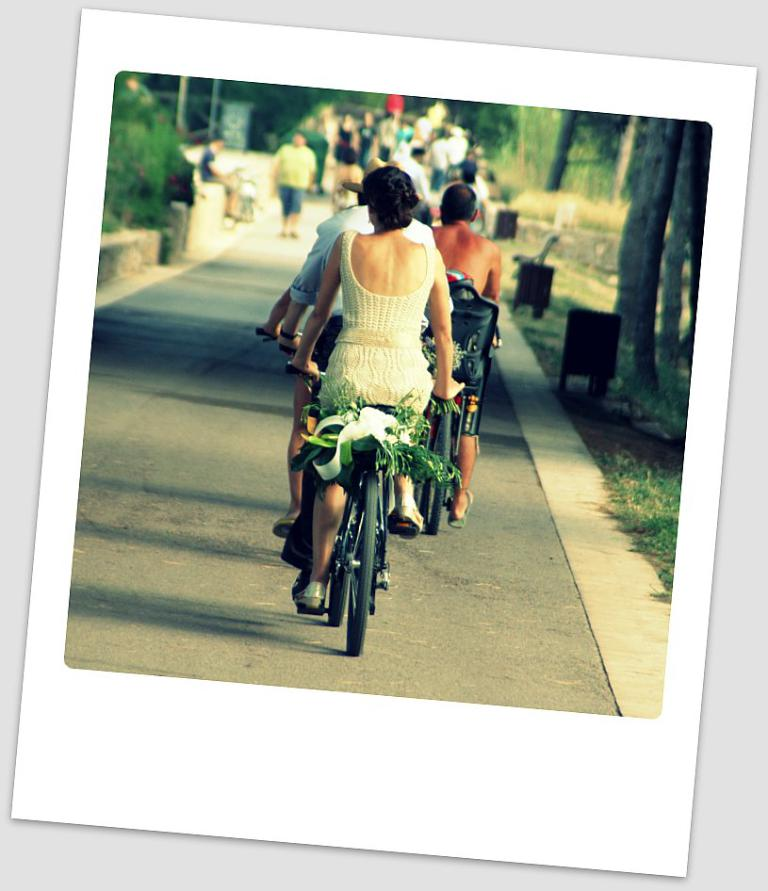Bike_away: (279, 362, 478, 657)
